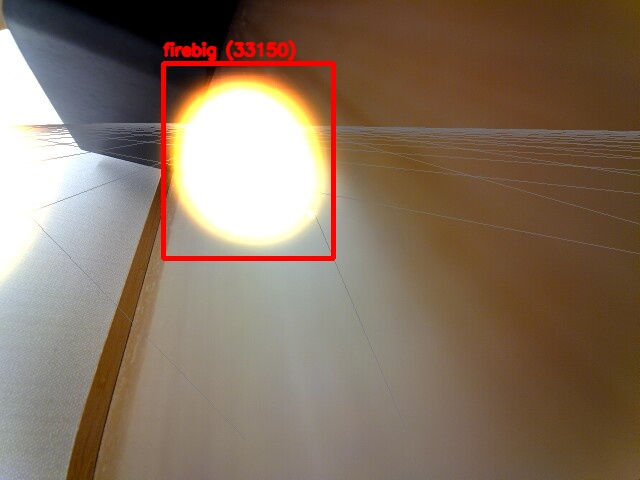firebig: (163, 63, 333, 258)
